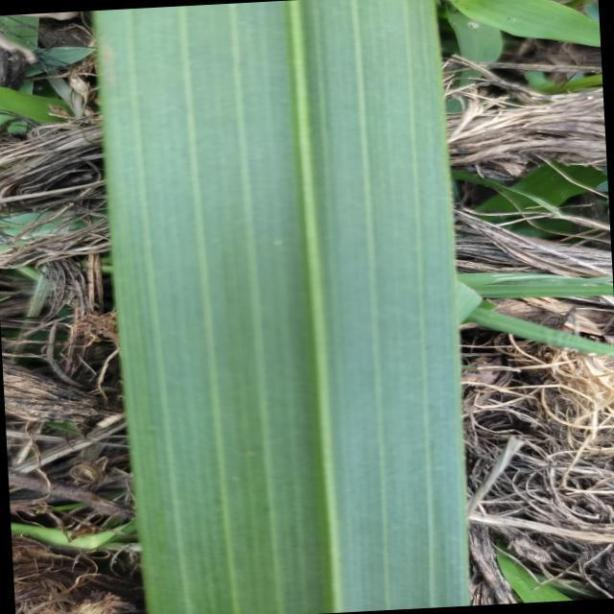Healthy: (104, 0, 460, 614)
